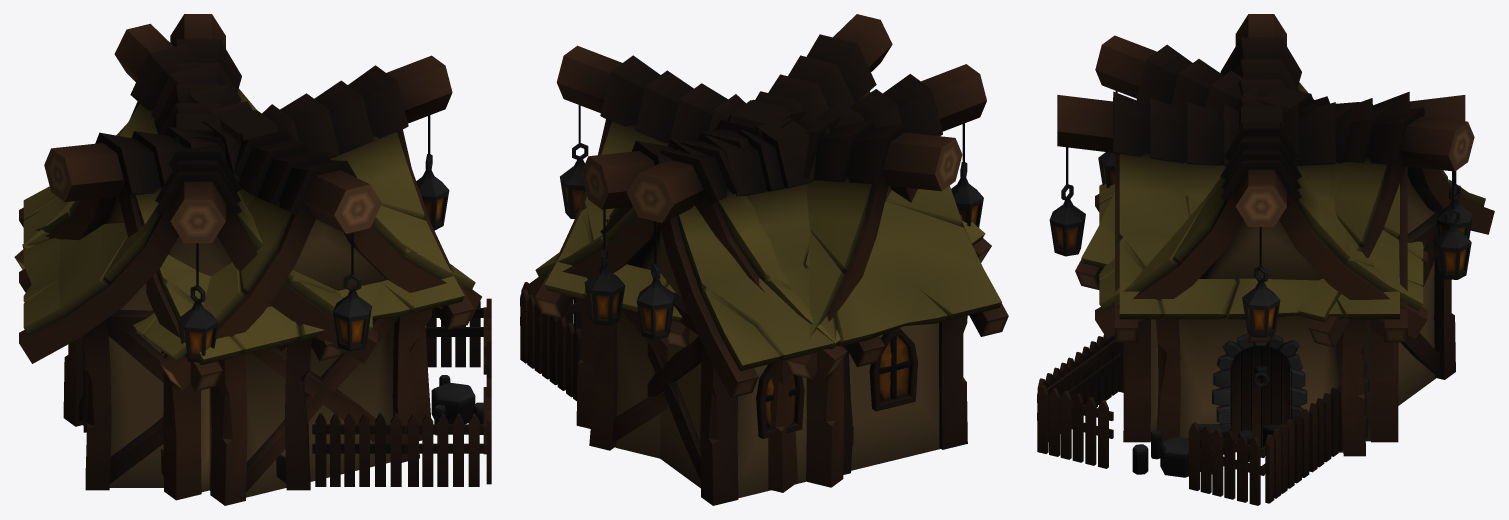
File: Peasant_House.fbx
3 views of the same model, side by side, from view 1: azimuth 30°, elevation 25°; view 2: azimuth 150°, elevation 25°; view 3: azimuth 270°, elevation 25° (orthographic). The views are drawn at different scales.
Parts seen in each view (by area): view 1: Peasant_House_C, Peasant_House_B, Peasant_House_A; view 2: Peasant_House_C, Peasant_House_A, Peasant_House_B; view 3: Peasant_House_C, Peasant_House_A, Peasant_House_B.
Part boxes in pixels (bbox=[...]): Peasant_House_C: bbox=[19, 14, 491, 490]; Peasant_House_B: bbox=[14, 23, 481, 505]; Peasant_House_A: bbox=[22, 55, 474, 500]; Peasant_House_C: bbox=[520, 64, 1008, 505]; Peasant_House_A: bbox=[535, 45, 962, 487]; Peasant_House_B: bbox=[527, 14, 991, 492]; Peasant_House_C: bbox=[1037, 35, 1494, 505]; Peasant_House_A: bbox=[1095, 14, 1427, 456]; Peasant_House_B: bbox=[1049, 91, 1472, 442].
Size of the model in its own units: 191 by 122 by 169.
